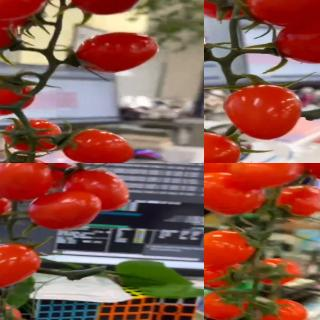tomato: (225, 86, 303, 141), (76, 32, 161, 73), (63, 170, 132, 213), (28, 190, 102, 230), (204, 173, 267, 216), (62, 128, 134, 163), (0, 163, 55, 202), (204, 229, 258, 268), (243, 0, 320, 27), (277, 15, 320, 63), (228, 163, 307, 189), (3, 118, 62, 152), (0, 243, 40, 290), (269, 183, 320, 217), (255, 259, 308, 287), (204, 289, 251, 320), (69, 0, 157, 15), (0, 0, 50, 26), (0, 75, 35, 112), (257, 298, 309, 320), (0, 7, 24, 54), (204, 257, 238, 290), (204, 131, 239, 163), (204, 0, 254, 21), (0, 192, 17, 228), (204, 163, 240, 178), (0, 154, 53, 163)
